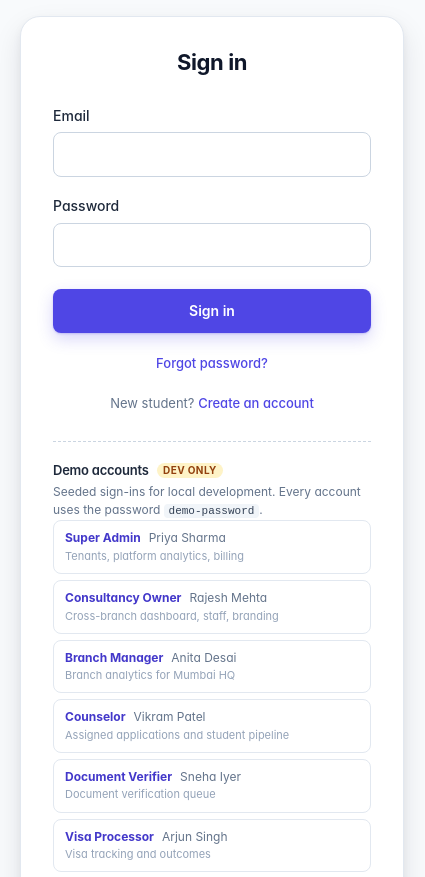
LoginPage › shows an error message when login fails
Check: the heading "Sign in" is shown, box 177,49 -> 247,75
Type "counselor@demo.test" into the field with test id "login-email".
click(212, 155); type("counselor@demo.test")  # box 53,132 -> 371,177
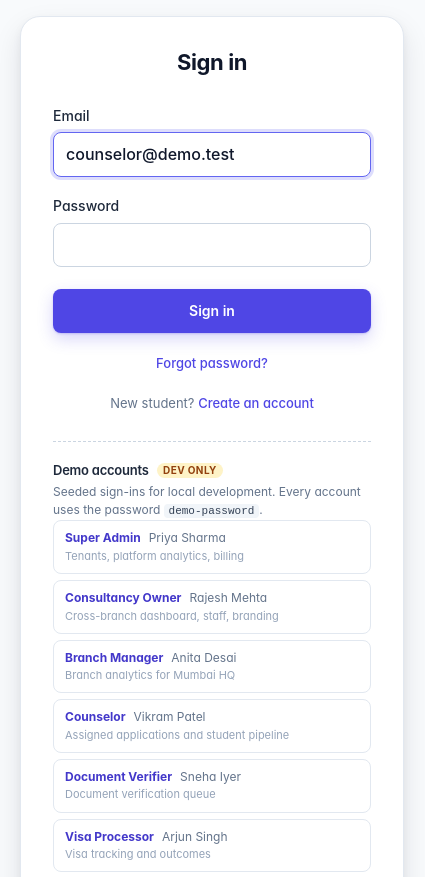
Type "wrong-password" into the password field with test id "login-password".
click(212, 245); type("wrong-password")  # box 53,223 -> 371,268
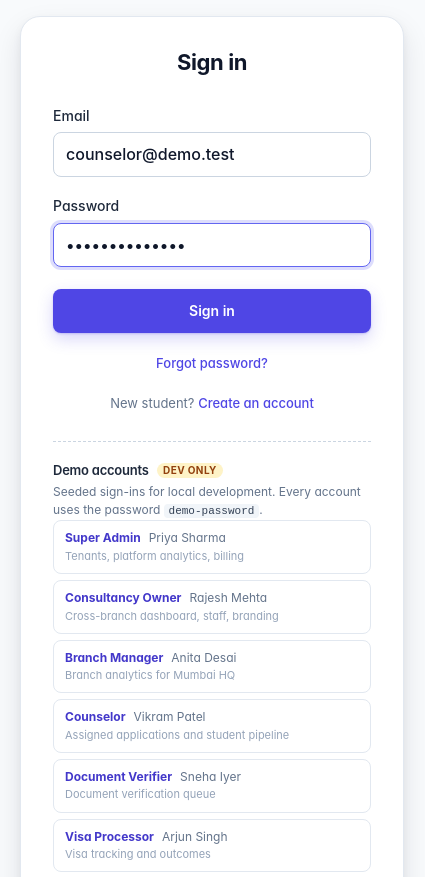
Click the button with test id "login-submit".
click(212, 311)  # box 53,290 -> 371,333
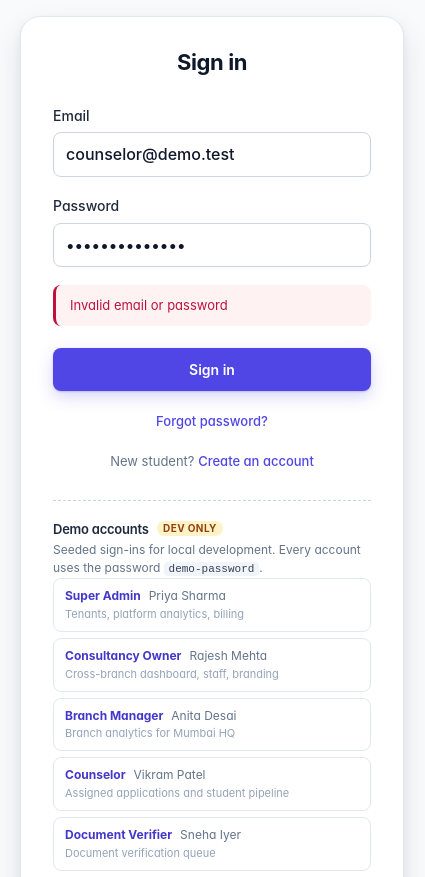
Check: the message "Invalid email or password" is shown, box 53,286 -> 371,326
Check: the message with test id "login-error" reads "Invalid email or password", box 70,298 -> 228,314
